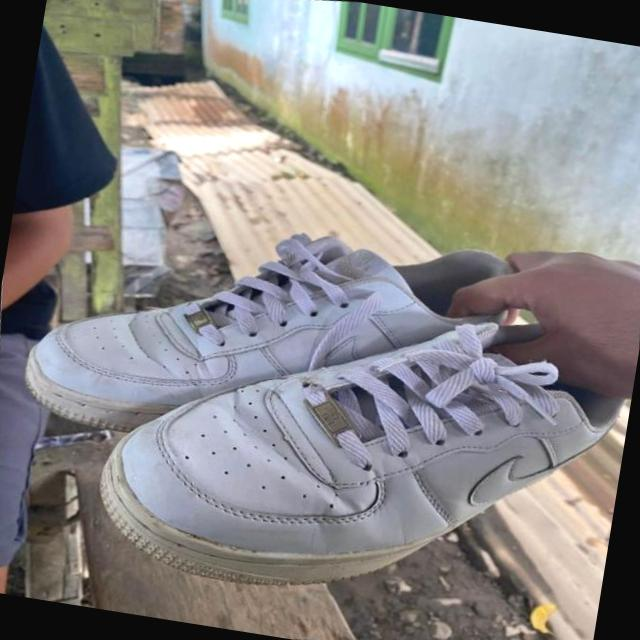nike_fake_airforce: (62, 241, 640, 640), (33, 160, 626, 502)
